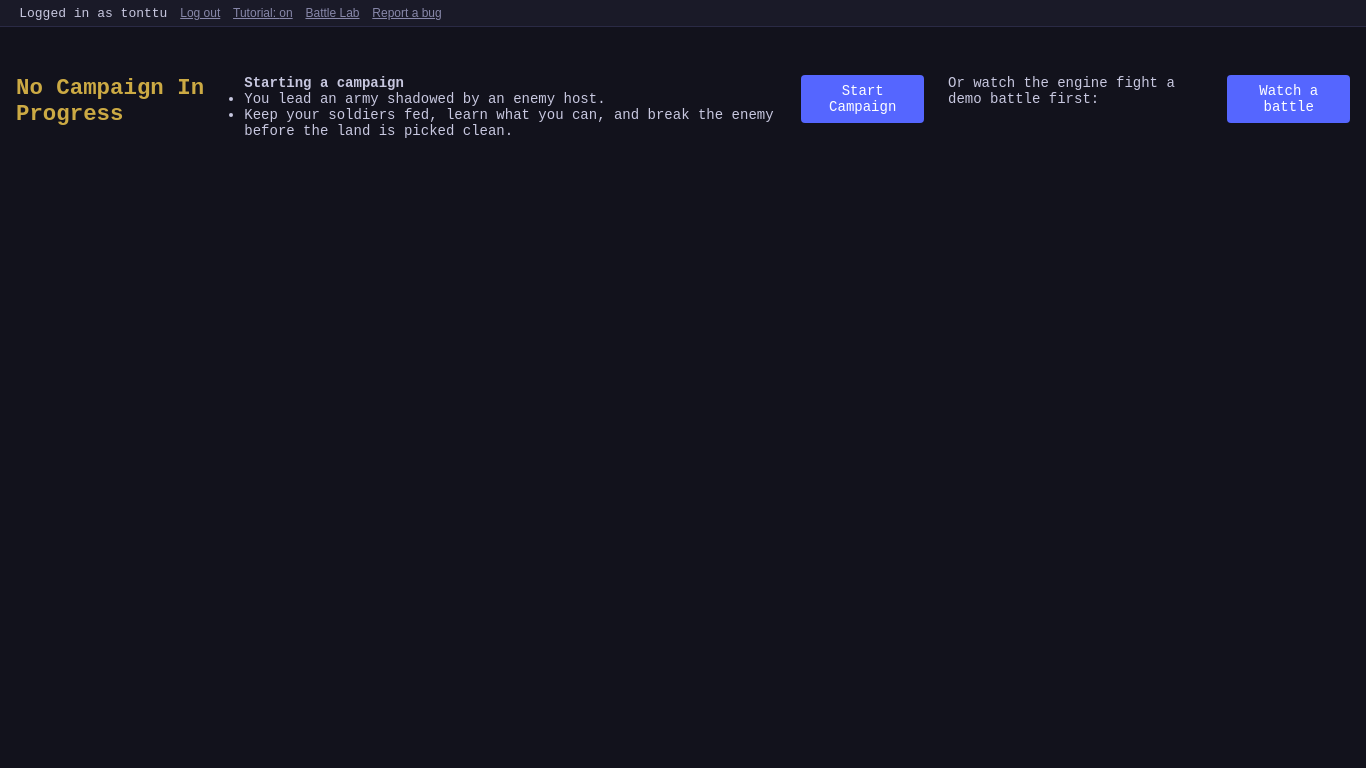
composing both armies › offers the whole catalog, enemy-only types included (SB-1)
Click the button with test id "open-lab": (332, 13) left=306, top=6, right=360, bottom=20
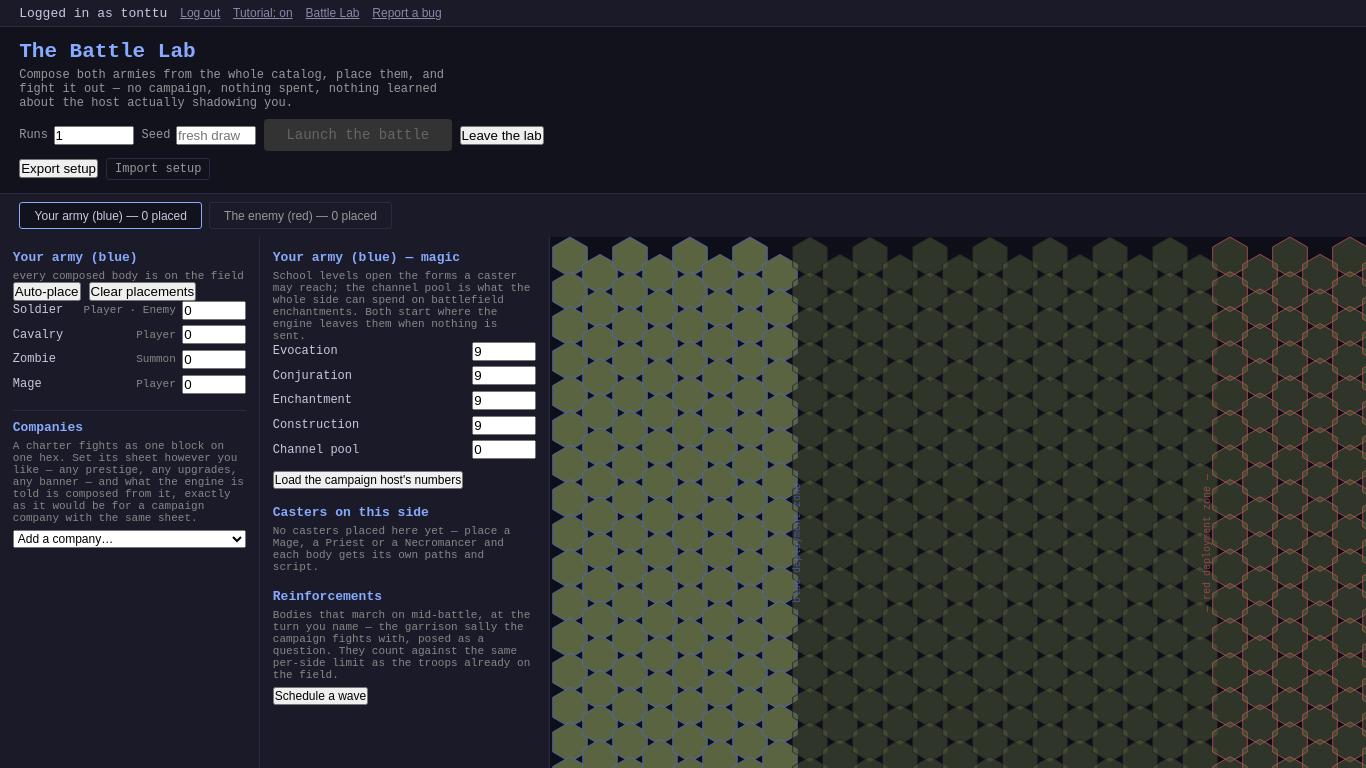
expect the element with test id "lab-palette" is shown: met, box left=0, top=237, right=260, bottom=767
expect the number field with test id "lab-recruit-Soldier" is shown: met, box left=182, top=301, right=246, bottom=320
